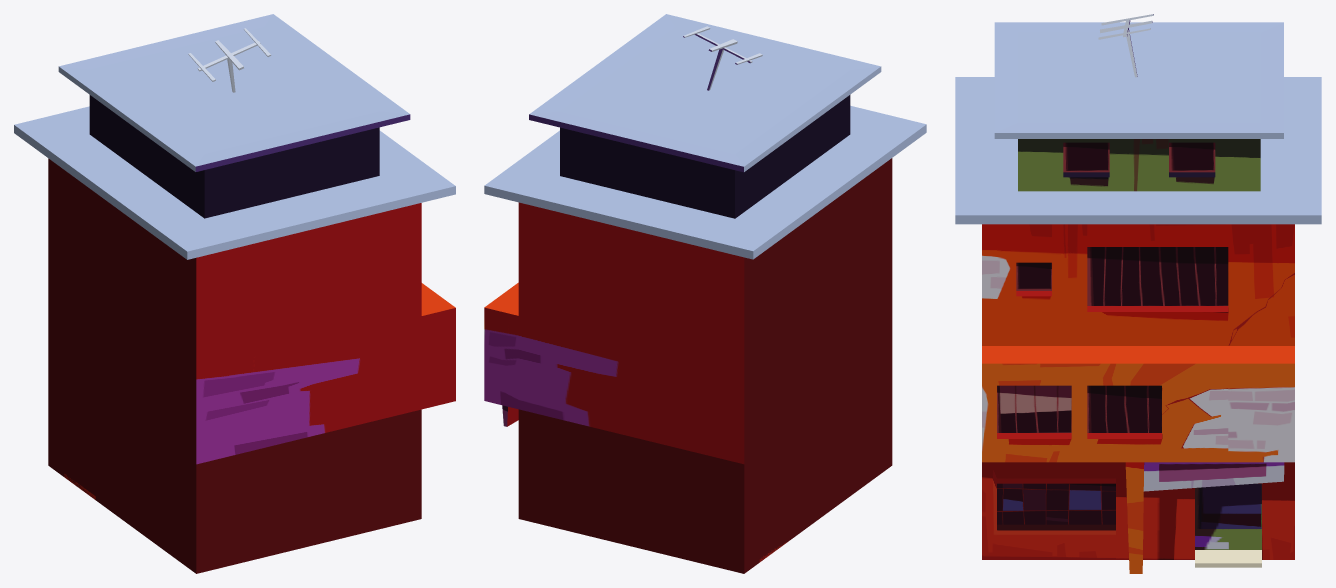
3 renders of one model, left to right at view 1: azimuth 30°, elevation 25°; view 2: azimuth 150°, elevation 25°; view 3: azimuth 270°, elevation 25°, orthographic. The views are drawn at different scales.
Parts seen in each view (by area): view 1: 3.001_Bina3_0; view 2: 3.001_Bina3_0; view 3: 3.001_Bina3_0.
Boxes of the visible parts, x1,y1,x2,y2 form: 3.001_Bina3_0: (14,14,455,573); 3.001_Bina3_0: (484,14,926,573); 3.001_Bina3_0: (955,14,1321,573).
Size of the model in its own units: 123 by 190 by 131.
